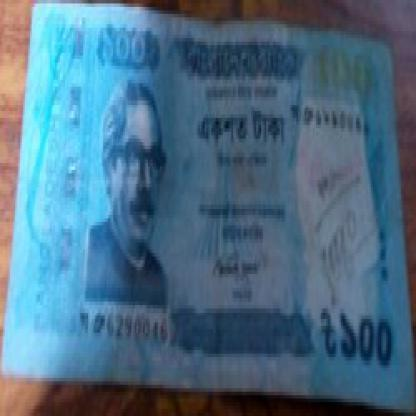one hundred taka: (334, 302, 396, 371), (96, 21, 162, 80), (315, 42, 376, 104)
